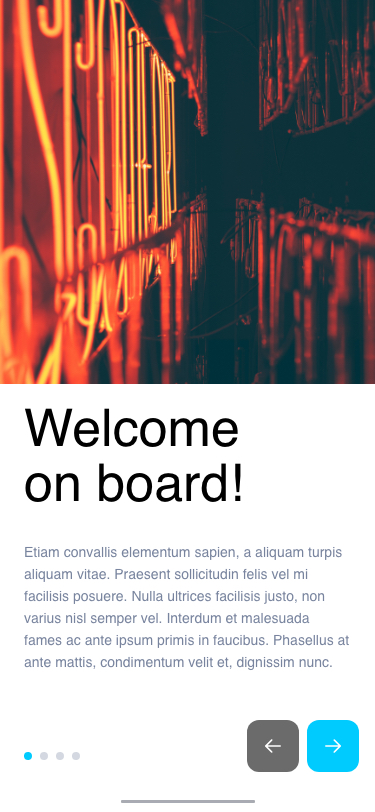Icon: (247, 720, 300, 772), (307, 720, 359, 772)
Image: (1, 1, 375, 385)
PageIndicator: (24, 751, 82, 761)
Text: (24, 546, 350, 671), (25, 408, 242, 504)
